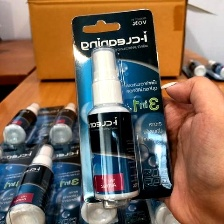book: (70, 5, 178, 208), (25, 0, 190, 87)
cleaning_solution: (84, 45, 143, 203), (3, 141, 58, 223), (78, 141, 116, 223), (0, 100, 44, 147), (49, 101, 79, 145), (185, 57, 210, 79), (207, 57, 224, 81)
